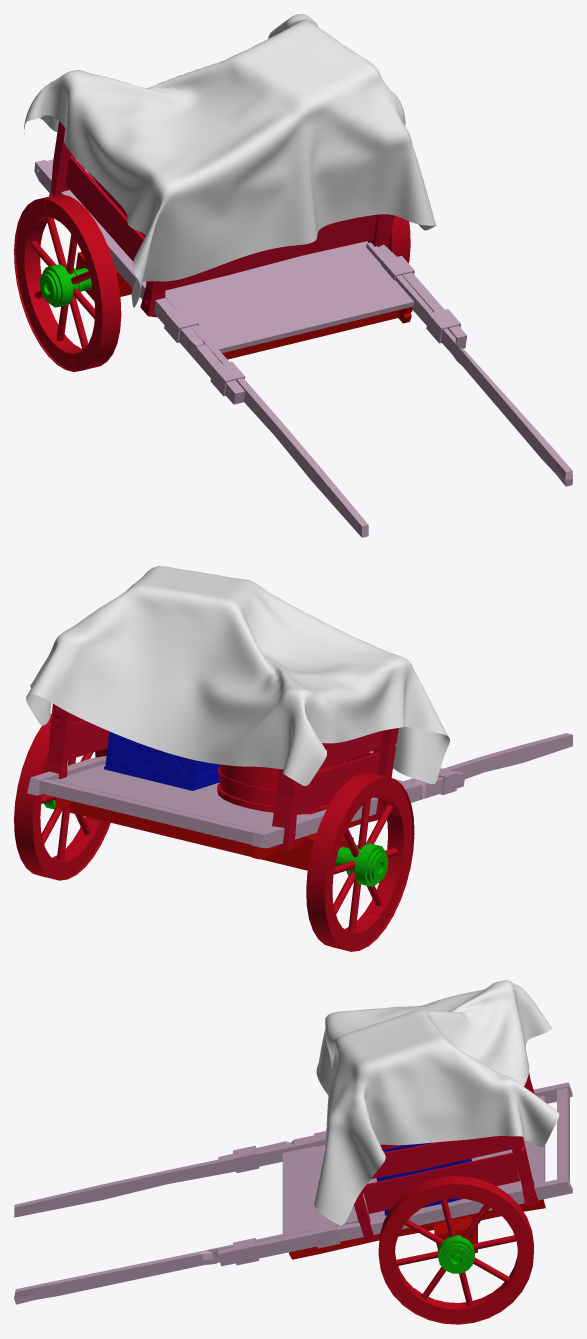
The model's file is SM_Cl_Crate.fbx.
3 views of the same model, one above another, from view 1: azimuth 30°, elevation 25°; view 2: azimuth 150°, elevation 25°; view 3: azimuth 270°, elevation 25° (orthographic). The views are drawn at different scales.
Parts seen in each view (by area): view 1: polySurface39; view 2: polySurface39; view 3: polySurface39.
Part boxes in pixels (x1,y1,x2,y2): polySurface39: [14, 14, 572, 537]; polySurface39: [14, 566, 572, 951]; polySurface39: [14, 980, 572, 1324].
Size of the model in its own units: 312 by 263 by 522.
